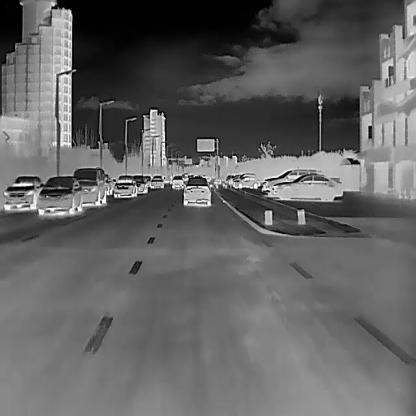car: (271, 173, 343, 201), (36, 174, 81, 214), (2, 172, 41, 212), (72, 165, 107, 205), (260, 169, 322, 188), (182, 176, 209, 206), (110, 174, 135, 197), (233, 174, 260, 188), (130, 174, 147, 192), (149, 174, 164, 188), (170, 175, 183, 187)
